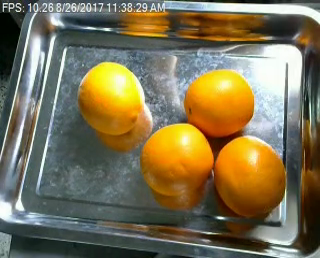Orange: (211, 136, 286, 217), (142, 122, 214, 196), (185, 68, 256, 138), (78, 60, 145, 134)
